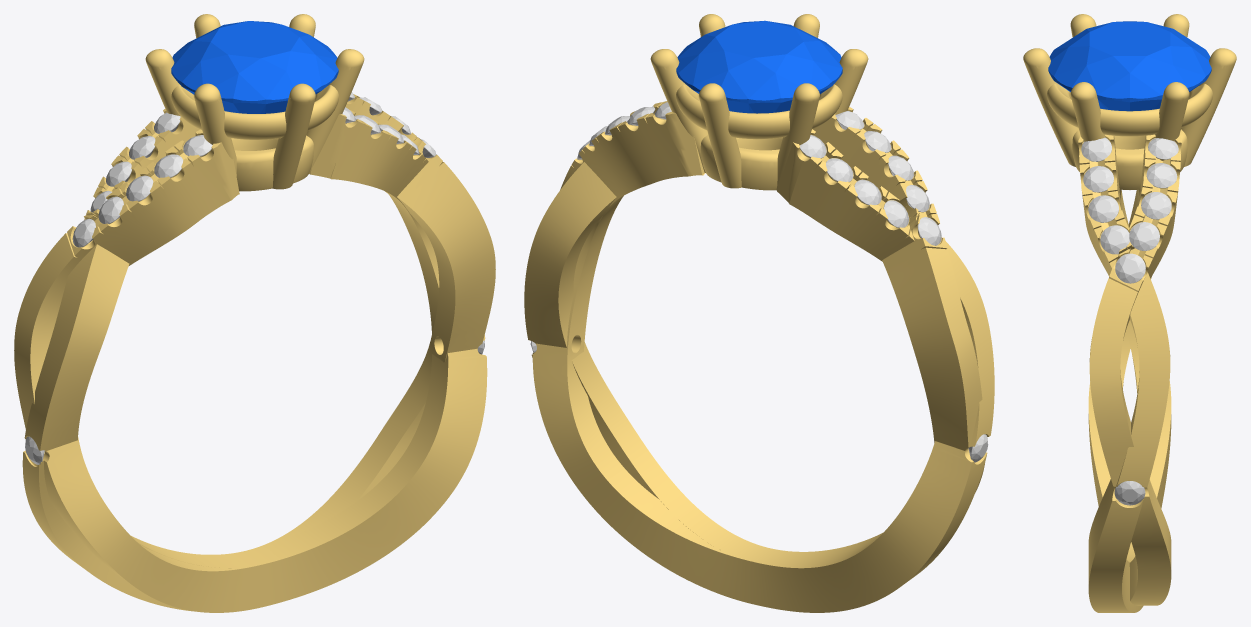
The model's file is bluesapphire-round-yellowgold-6prong-twist-sidestones.glb.
3 views of the same model, side by side, from view 1: azimuth 30°, elevation 25°; view 2: azimuth 150°, elevation 25°; view 3: azimuth 270°, elevation 25° (orthographic). The views are drawn at different scales.
Parts seen in each view (by area): view 1: metal.001, stone; view 2: metal.001, stone; view 3: metal.001, stone, side.015, side.016, side.017, side.012, side.011, side.013, side.018, side.010, side.014, side.019.
Part boxes in pixels (bbox=[...]): metal.001: bbox=[14, 14, 495, 612]; stone: bbox=[171, 21, 338, 113]; metal.001: bbox=[524, 14, 994, 612]; stone: bbox=[676, 20, 842, 113]; metal.001: bbox=[1023, 14, 1236, 612]; stone: bbox=[1048, 21, 1211, 111]; side.015: bbox=[1115, 253, 1145, 283]; side.016: bbox=[1129, 222, 1159, 250]; side.017: bbox=[1141, 192, 1171, 219]; side.012: bbox=[1088, 195, 1118, 222]; side.011: bbox=[1100, 225, 1129, 254]; side.013: bbox=[1083, 166, 1113, 192]; side.018: bbox=[1146, 163, 1177, 188]; side.010: bbox=[1114, 481, 1145, 505]; side.014: bbox=[1081, 137, 1111, 161]; side.019: bbox=[1148, 138, 1178, 159].
Bounding box in the file's own units: 19.97 × 23.61 × 8.35.
